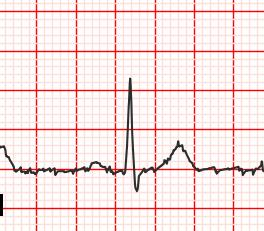ST Depression: (119, 166, 150, 195)
